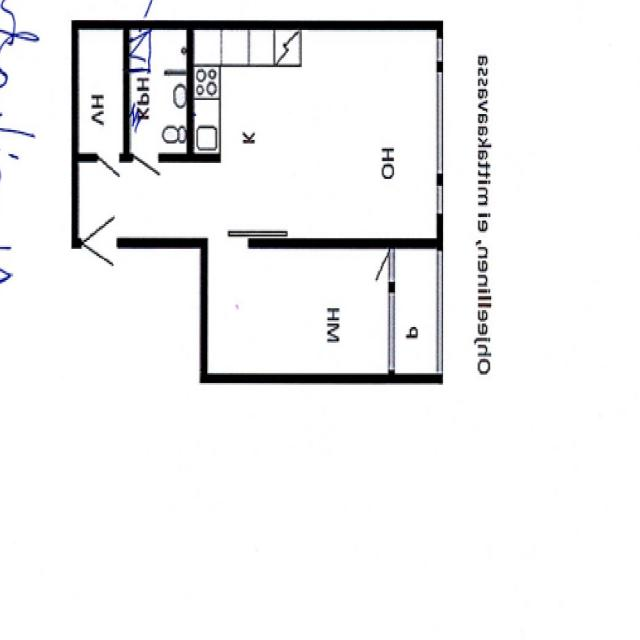door: (80, 187, 118, 248), (80, 240, 118, 300), (132, 153, 160, 201), (364, 252, 394, 286), (96, 153, 120, 195)
